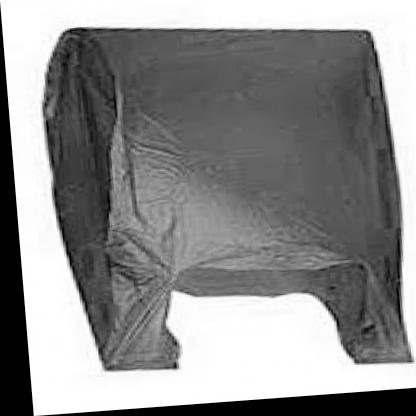trash: (44, 29, 410, 369)
